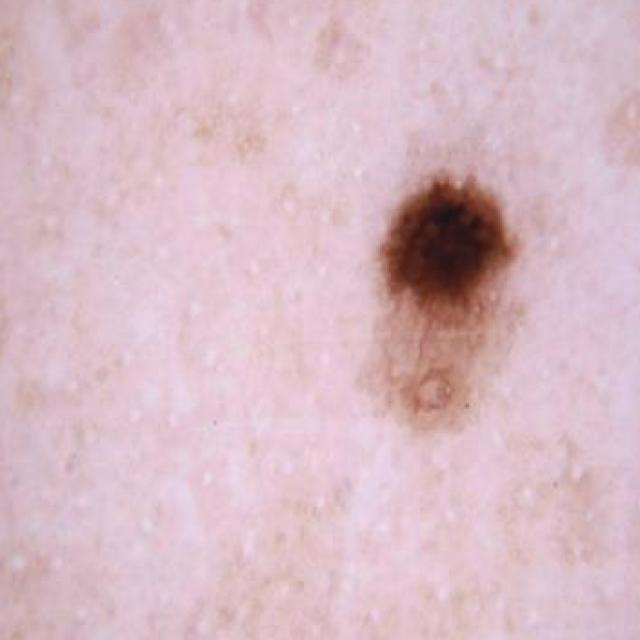NV: (358, 168, 531, 442)
